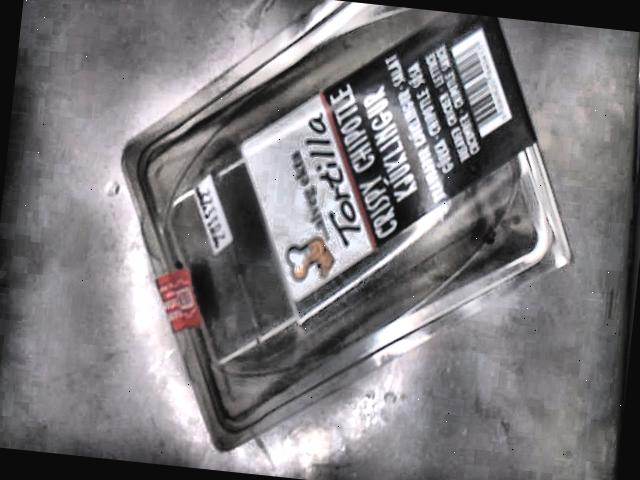Plastic: (121, 0, 575, 452)
